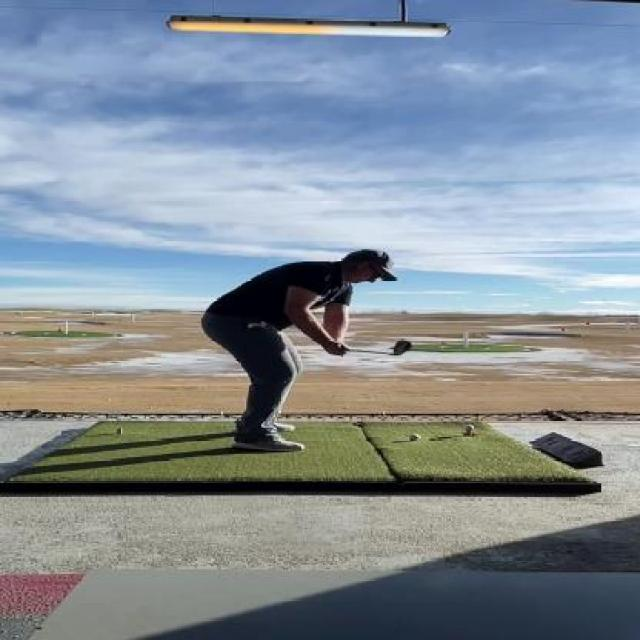club head: (385, 336, 413, 358)
